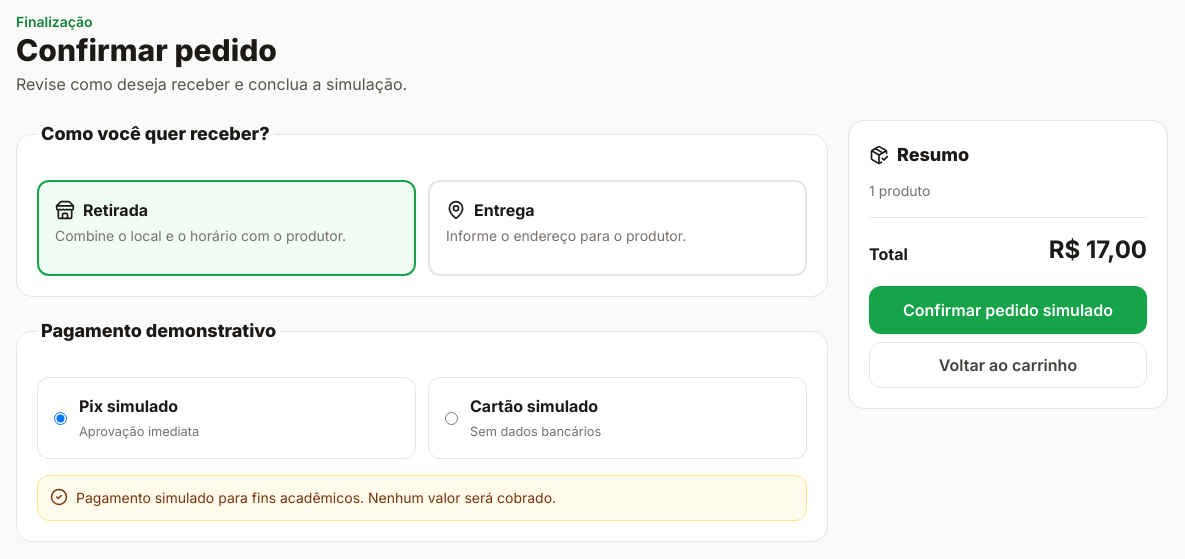
it: mantém o carrinho quando o Supabase recusa o checkout
Click the button "Confirmar pedido simulado": (1008, 310) x1=869 y1=286 x2=1147 y2=334
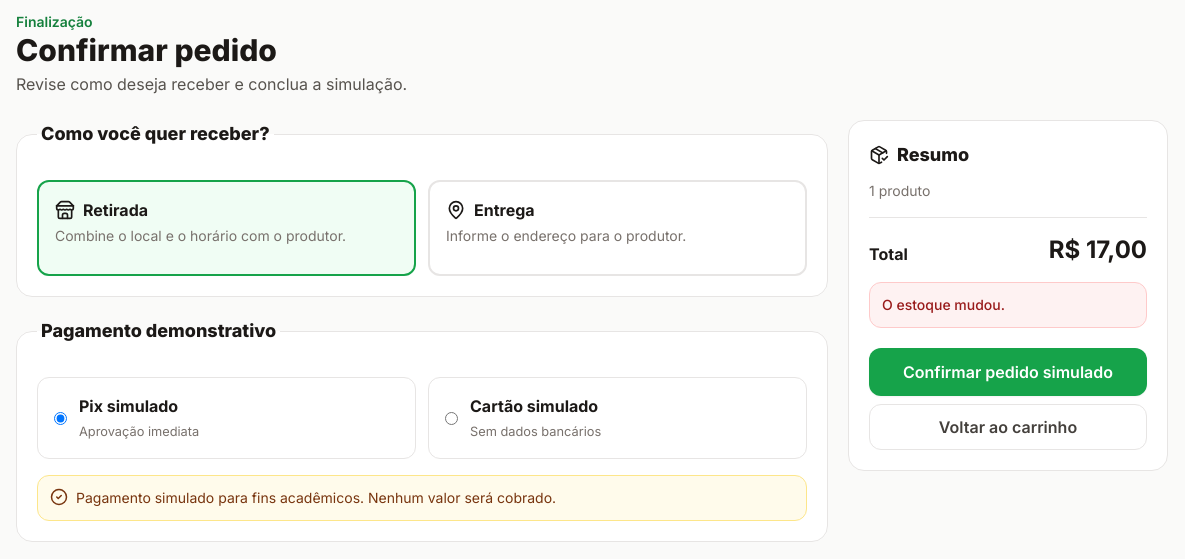
Result: the message shows "O estoque mudou" at x1=882 y1=296 x2=1005 y2=313
